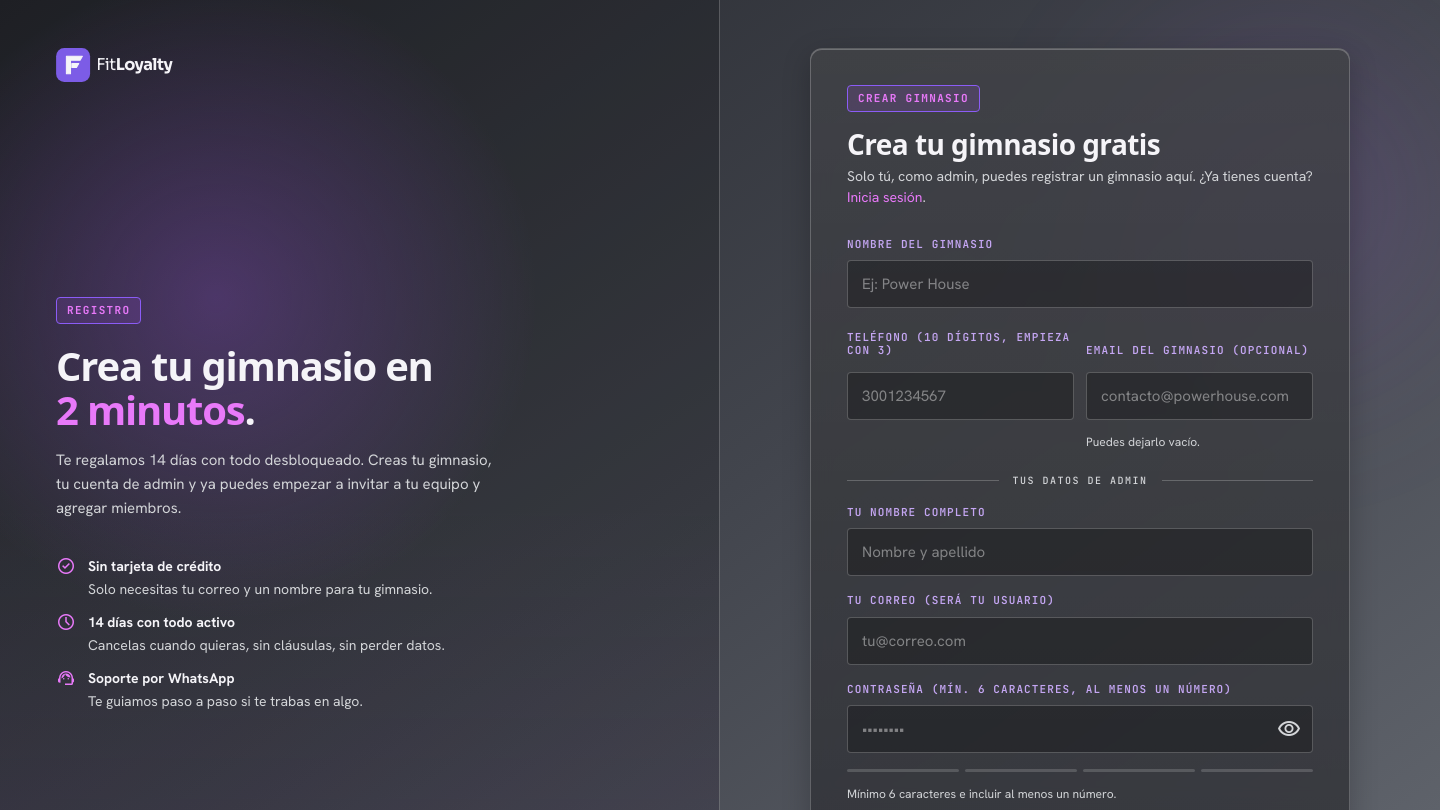
RegisterOwnerPage › should clear the phone error when the person edits the phone again
Type "Power House" into the field labelled "Nombre del gimnasio".
click(1080, 284); type("Power House")  # box 847,260 -> 1313,308
Type "300123456" into the field labelled "Teléfono (10 dígitos, empieza con 3)".
click(960, 396); type("300123456")  # box 847,372 -> 1074,420
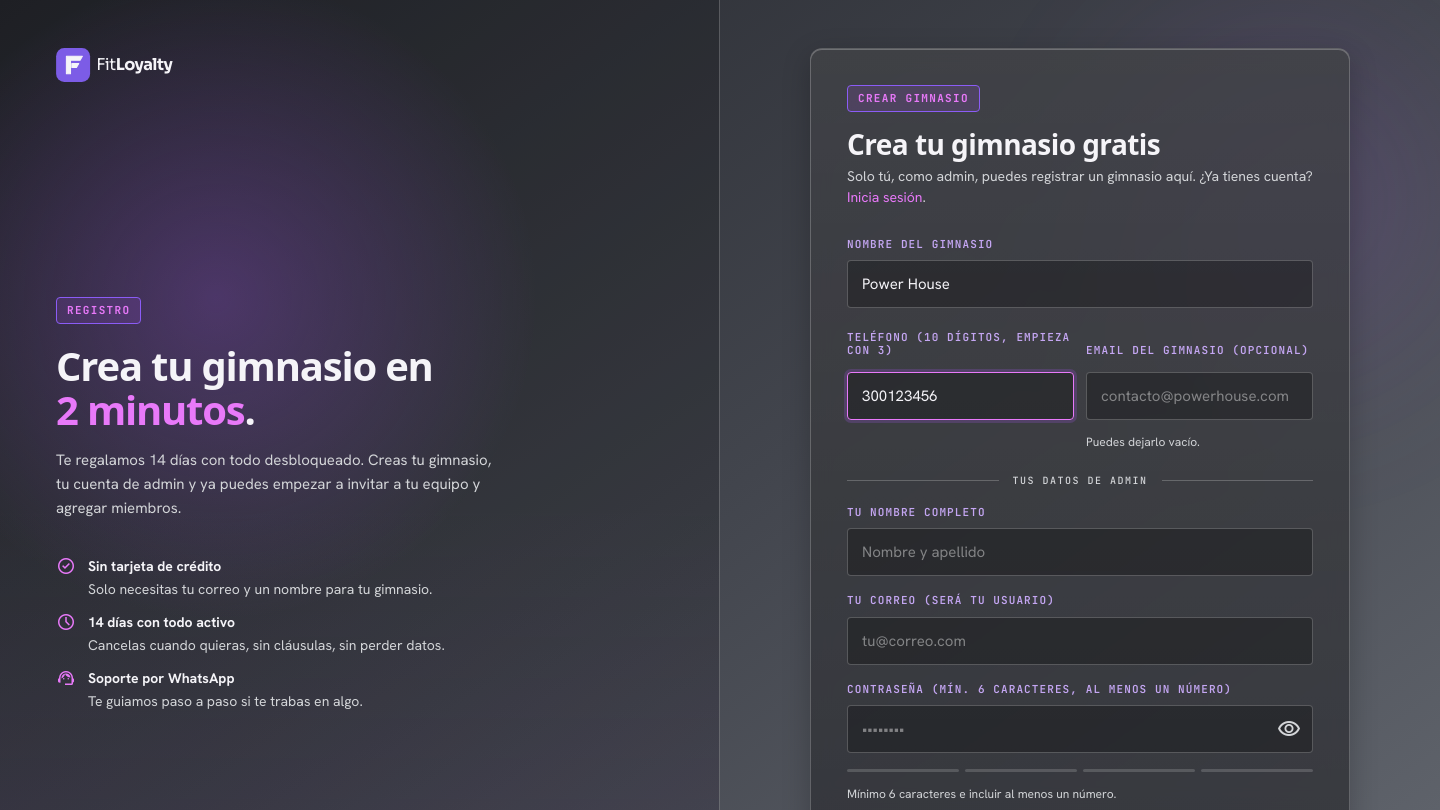
Type "Ana Pérez" into the field labelled "Tu nombre completo".
click(1080, 552); type("Ana Pérez")  # box 847,528 -> 1313,576
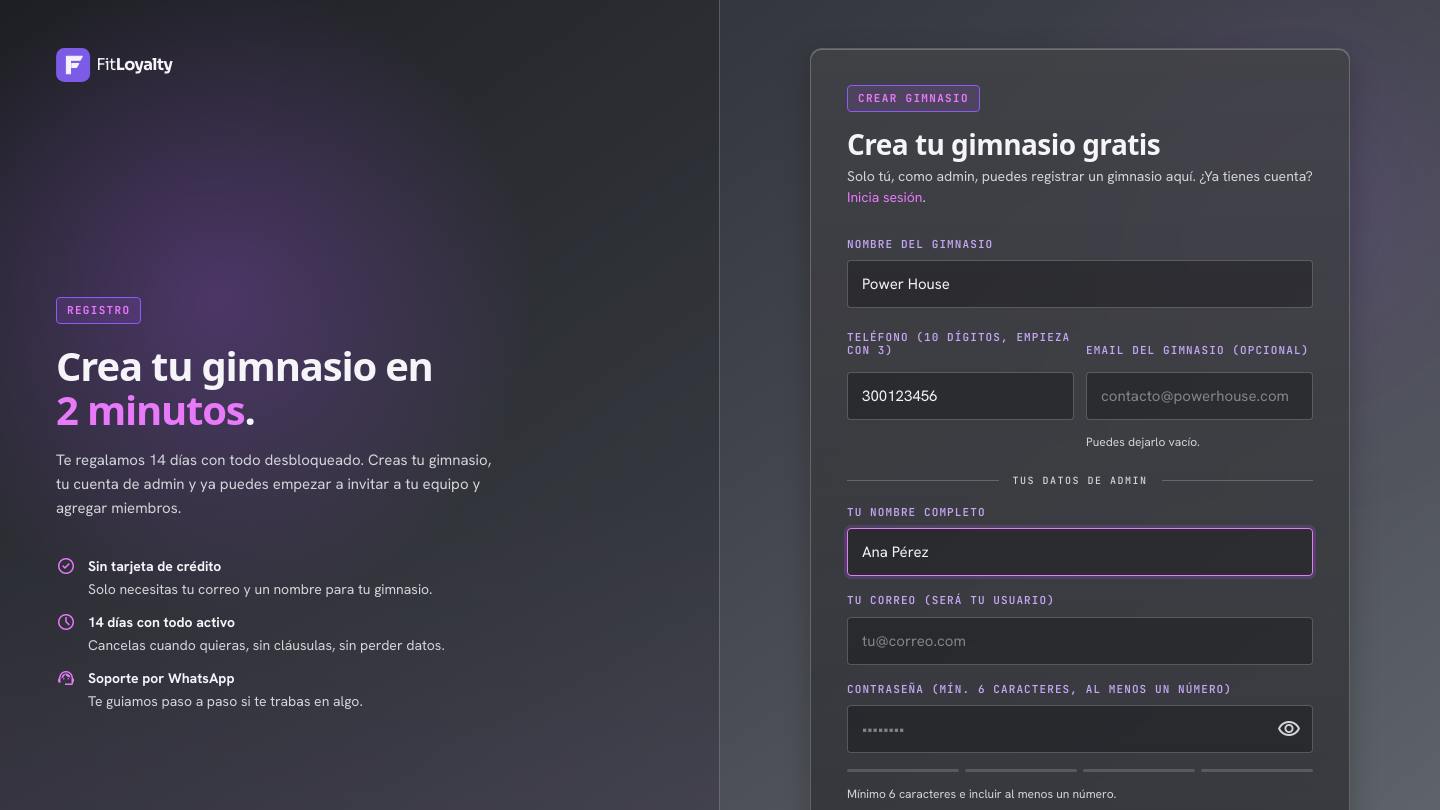
Type "ana@gym.co" into the field labelled "Tu correo (será tu usuario)".
click(1080, 641); type("ana@gym.co")  # box 847,617 -> 1313,665
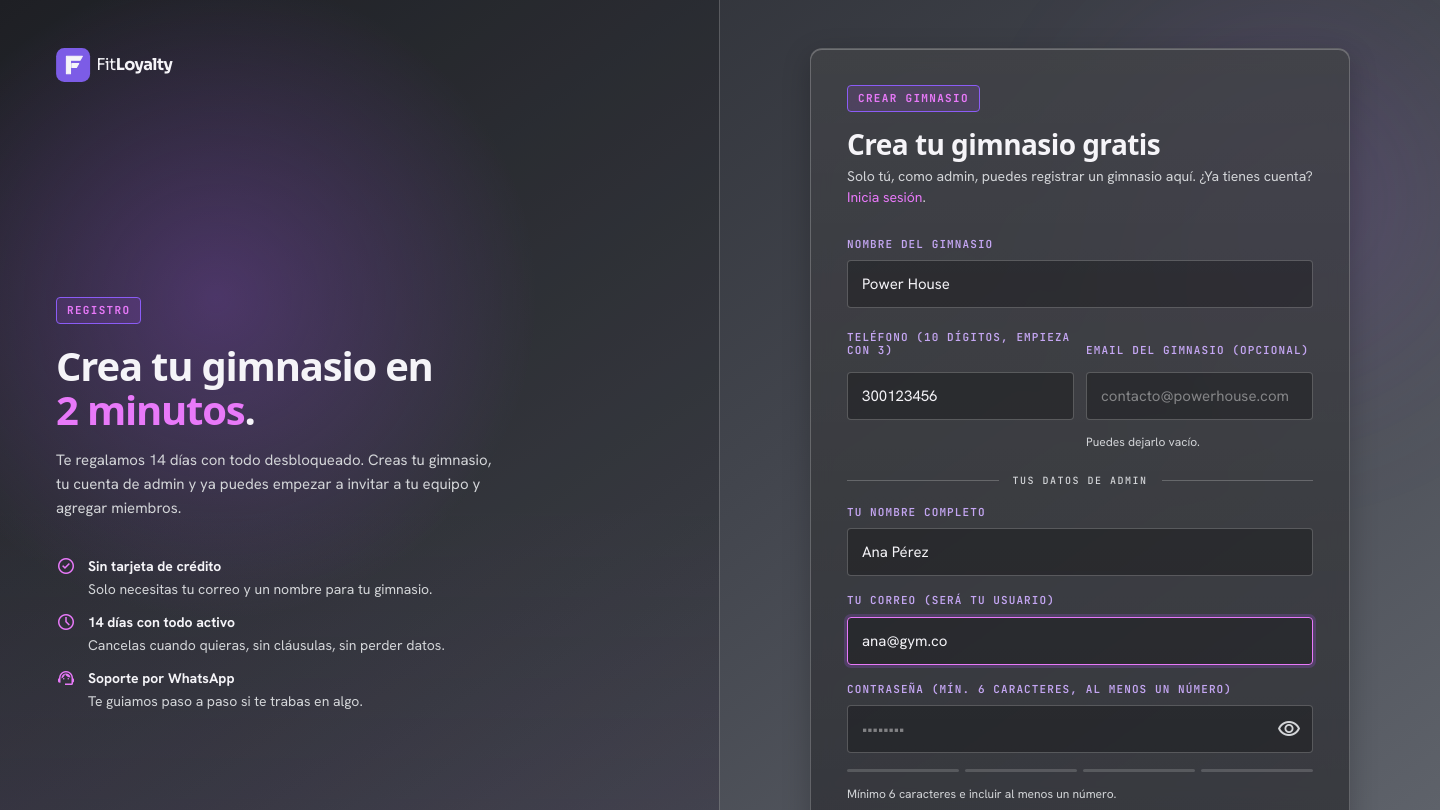
Type "clave123" into the password field labelled "Contraseña".
click(1080, 730); type("clave123")  # box 847,706 -> 1313,754
(page scrolled)
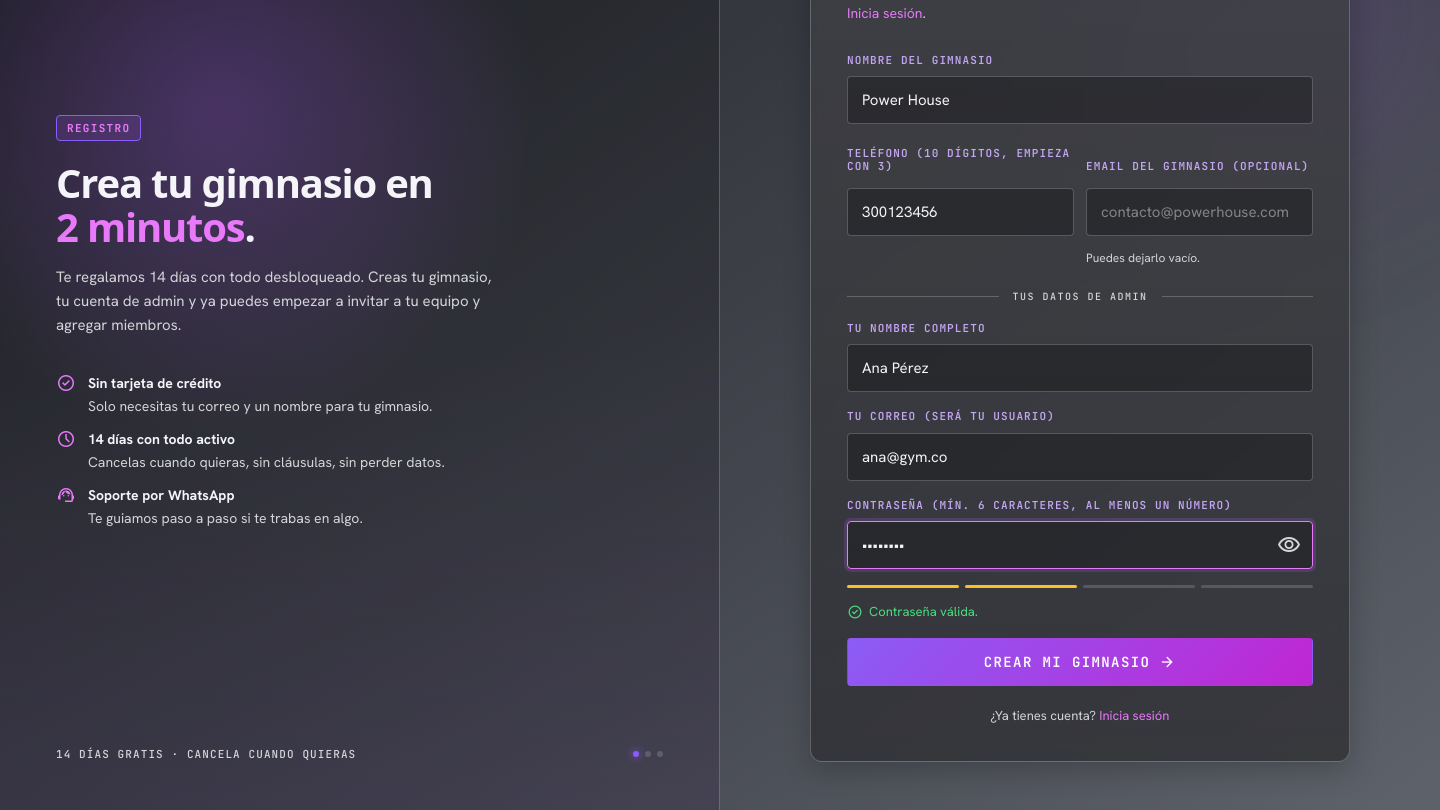
Click the button "Crear mi gimnasio".
click(1080, 662)  # box 847,638 -> 1313,686
(page scrolled)
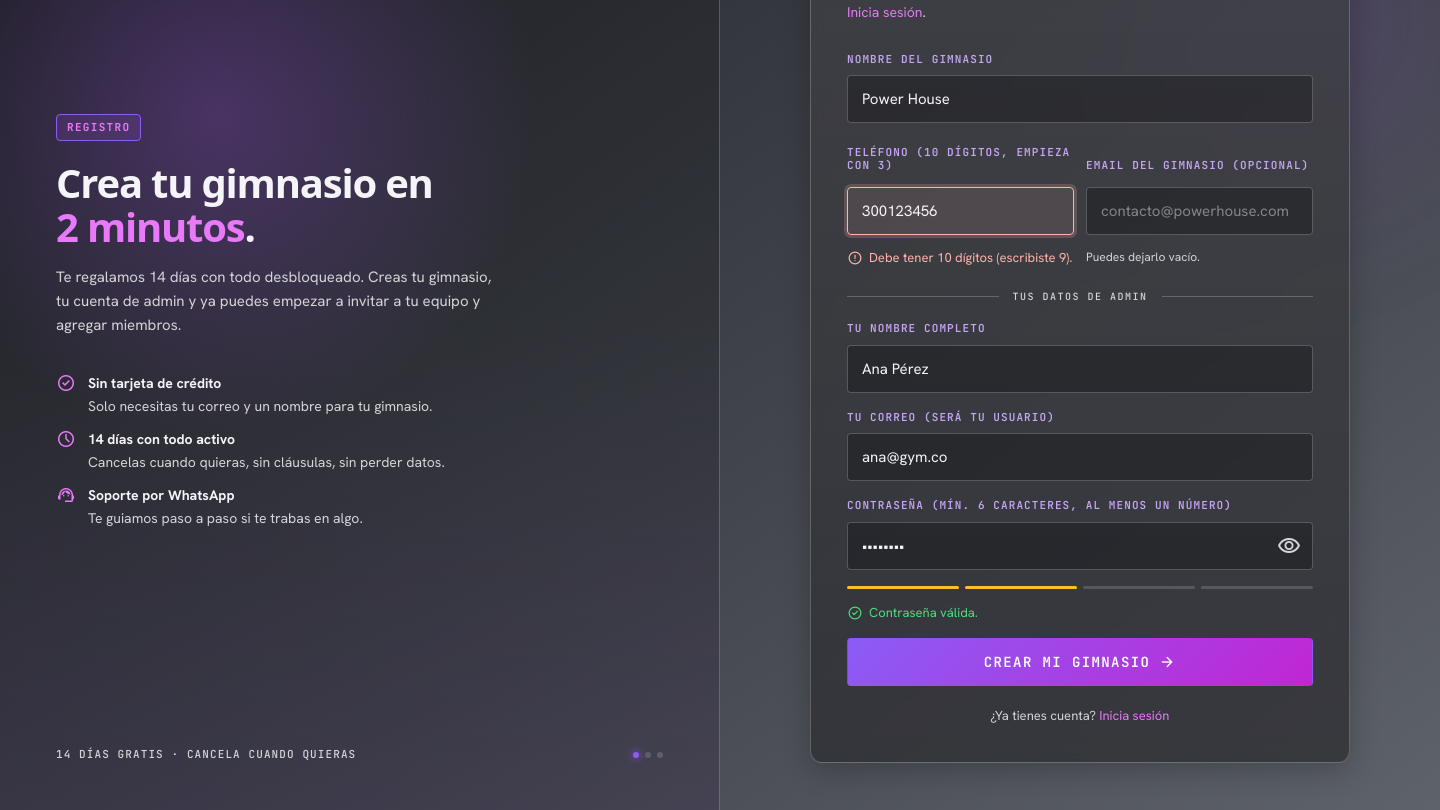
Type "7" into the field labelled "Teléfono".
click(960, 211); type("7")  # box 847,187 -> 1074,235
(page scrolled)
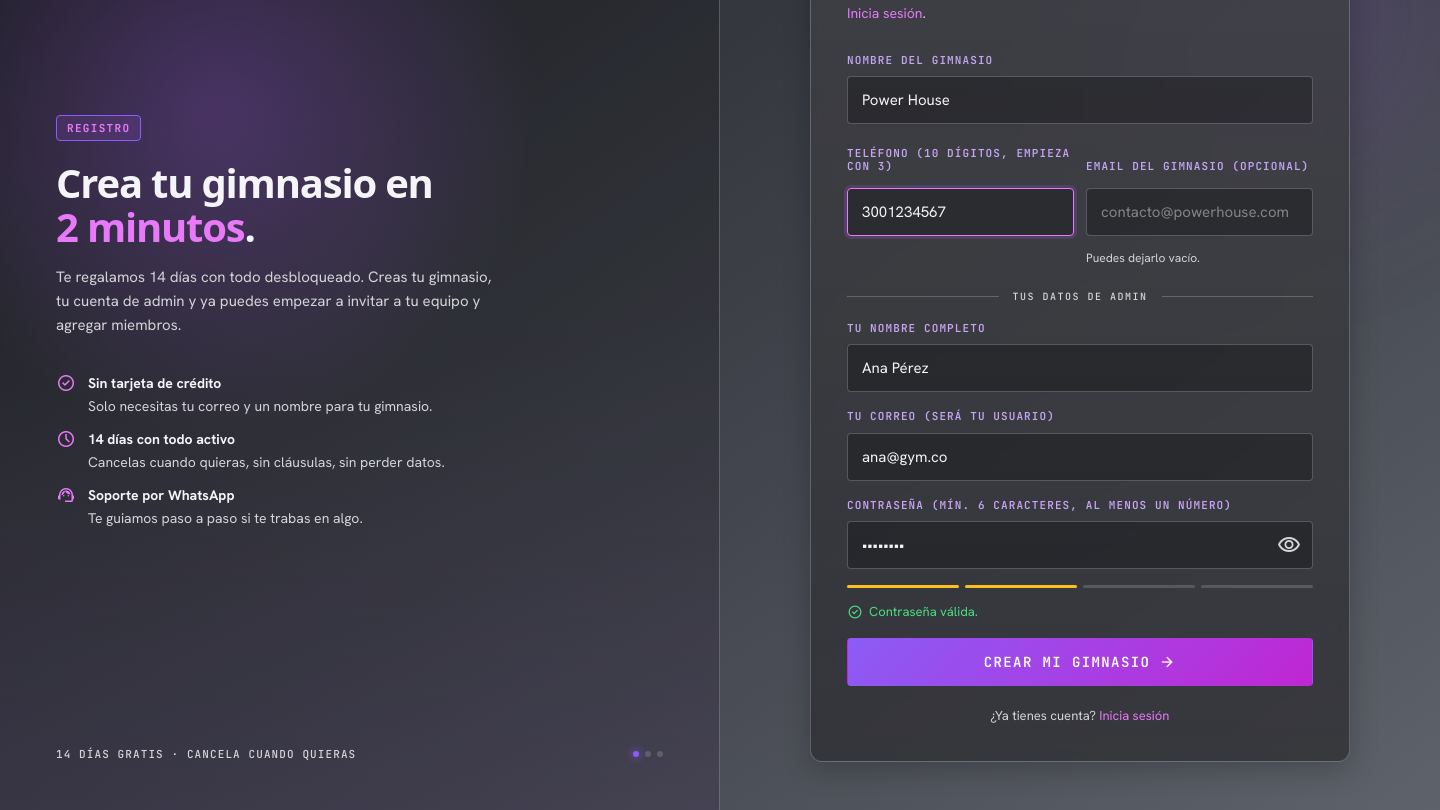
Expected: the message "Debe tener 10 dígitos (escribiste 9)." is gone
